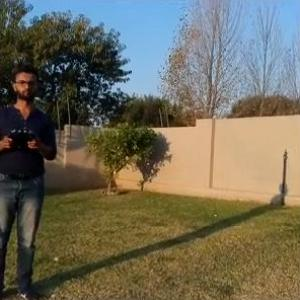follow: (0, 61, 60, 299)
